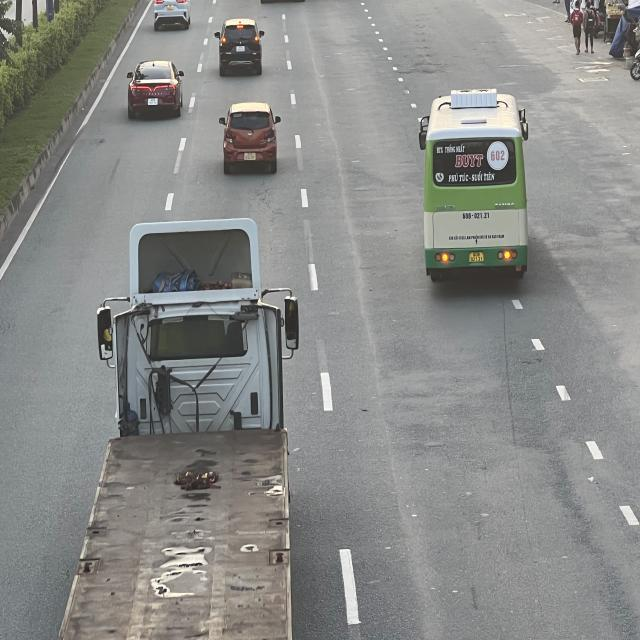car: (222, 102, 284, 174), (125, 59, 184, 118), (214, 19, 266, 76), (155, 0, 195, 29)
coach: (422, 88, 527, 278)
container: (56, 218, 300, 638)
